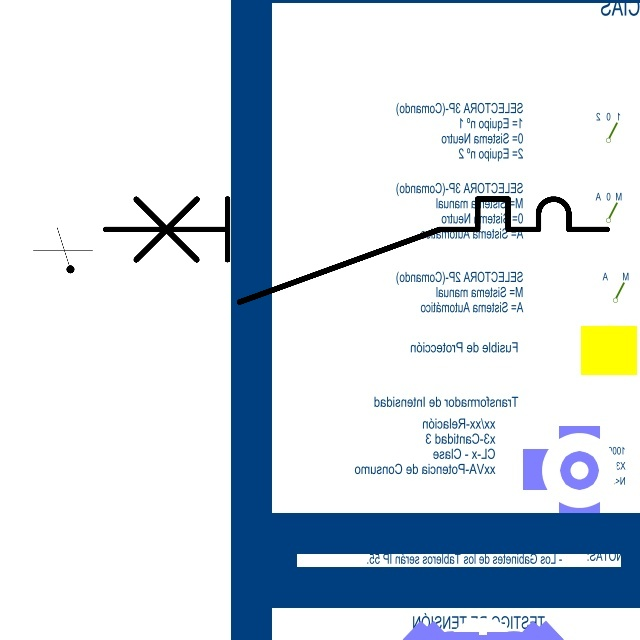interruptor_termomagnetico: (92, 186, 619, 315)
